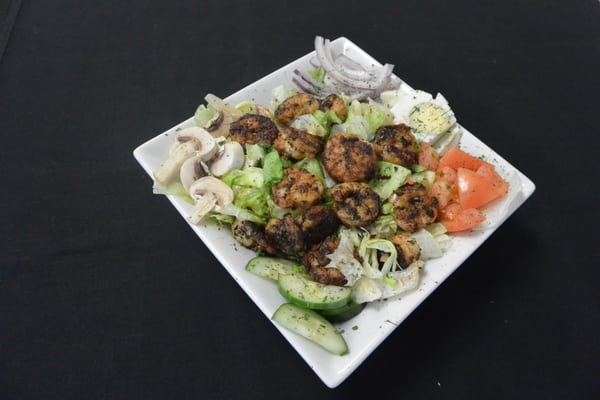curry: (4, 3, 596, 394)
pizza: (435, 148, 509, 211), (441, 206, 486, 233), (439, 147, 483, 172), (418, 143, 440, 170)
